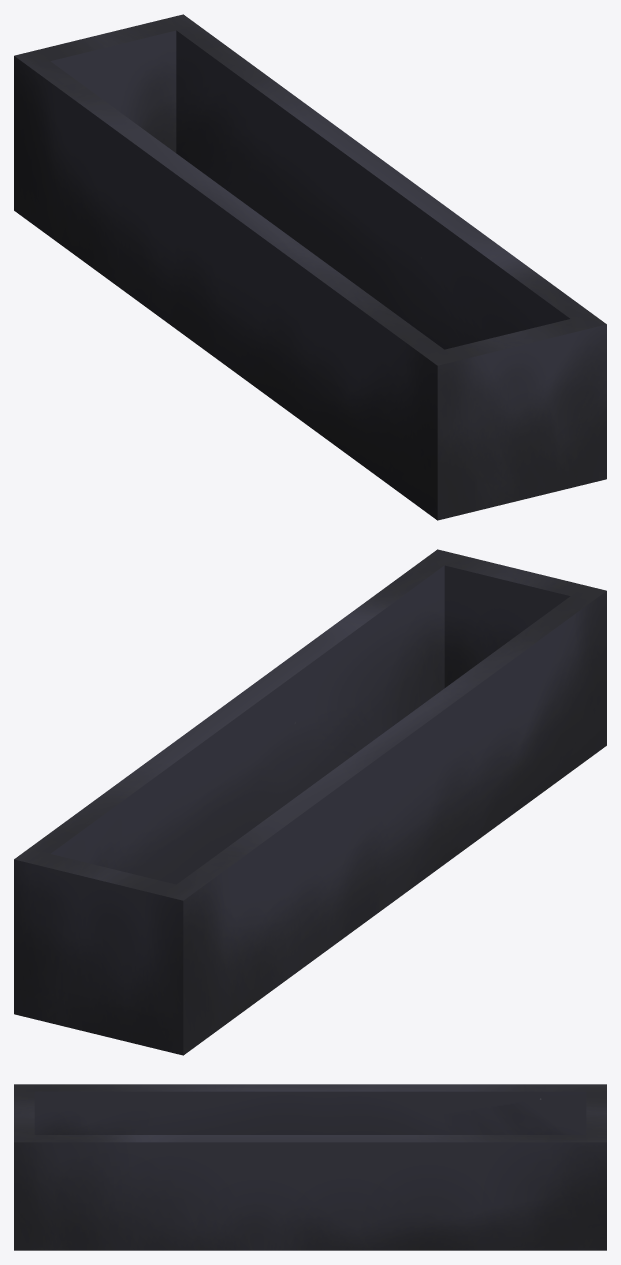
The model's file is drinking_bowl.fbx.
3 renders of one model, top to bottom at view 1: azimuth 30°, elevation 25°; view 2: azimuth 150°, elevation 25°; view 3: azimuth 270°, elevation 25°, orthographic. The views are drawn at different scales.
Visible parts, largest first — view 1: Cube; view 2: Cube; view 3: Cube.
Boxes of the visible parts, x1=… form: Cube: x1=14, y1=14, x2=606, y2=520; Cube: x1=14, y1=549, x2=606, y2=1055; Cube: x1=14, y1=1084, x2=606, y2=1250.
Bounding box in the file's own units: 65.85 × 57.5 × 285.
